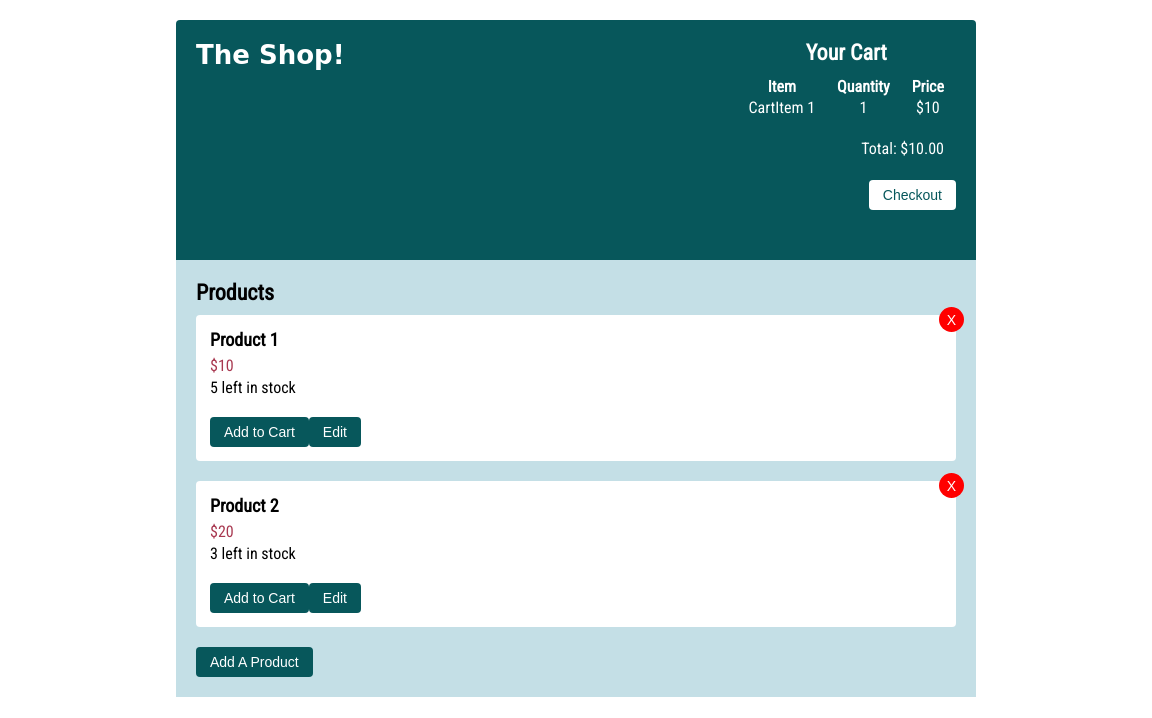
App component › allows updating a product
The image size is (1152, 718).
Click the button "Edit" below "Product 1": (335, 432) [309,417,361,447]
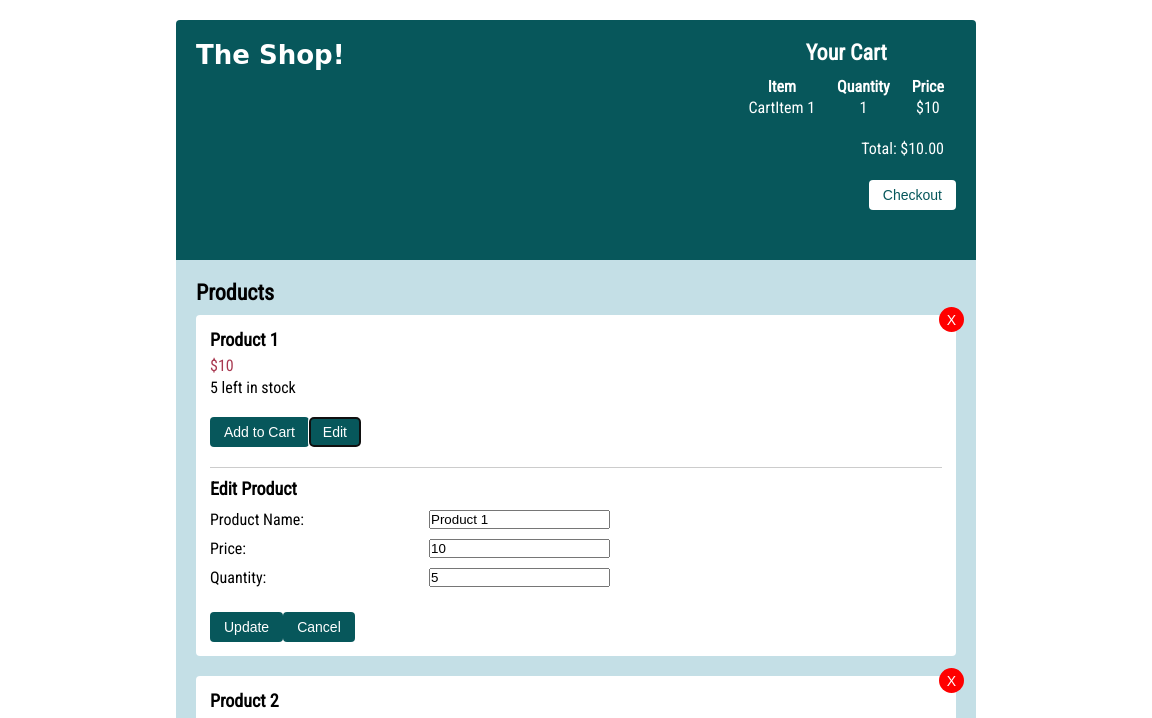
Replace the text in the field labelled "Product Name:" with "Updated Product 1": (520, 520) [429,510,610,529]
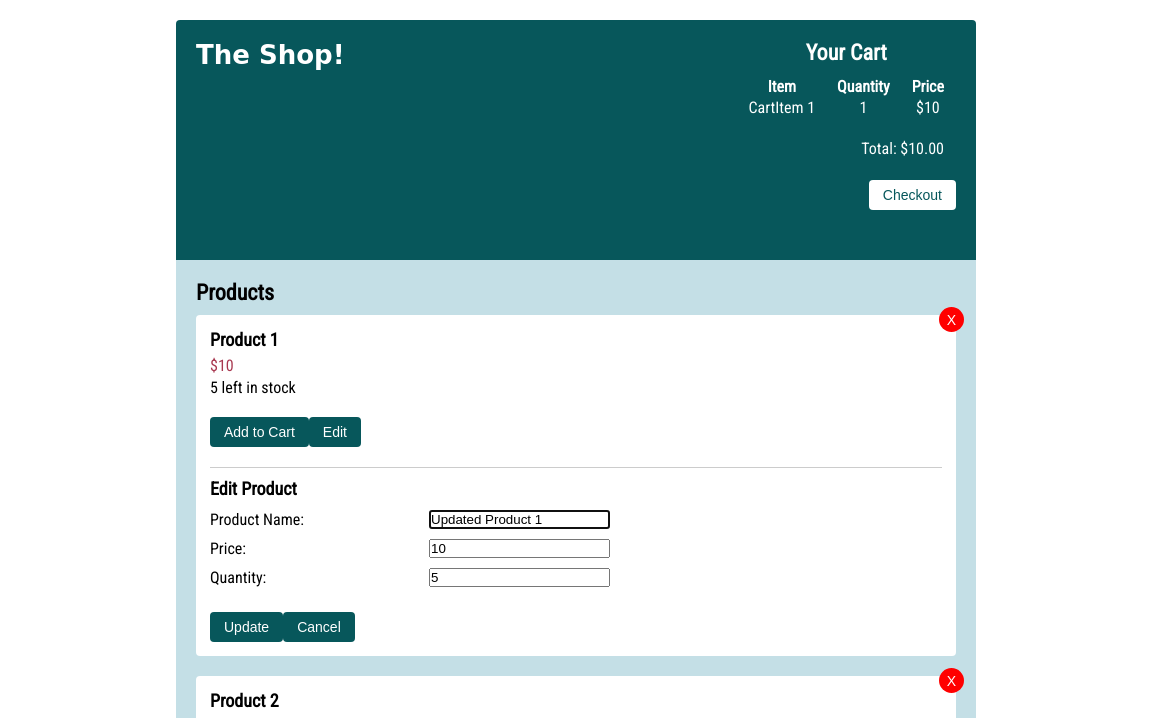
Replace the text in the number field labelled "Price:" with "12": (520, 548) [429,539,610,558]
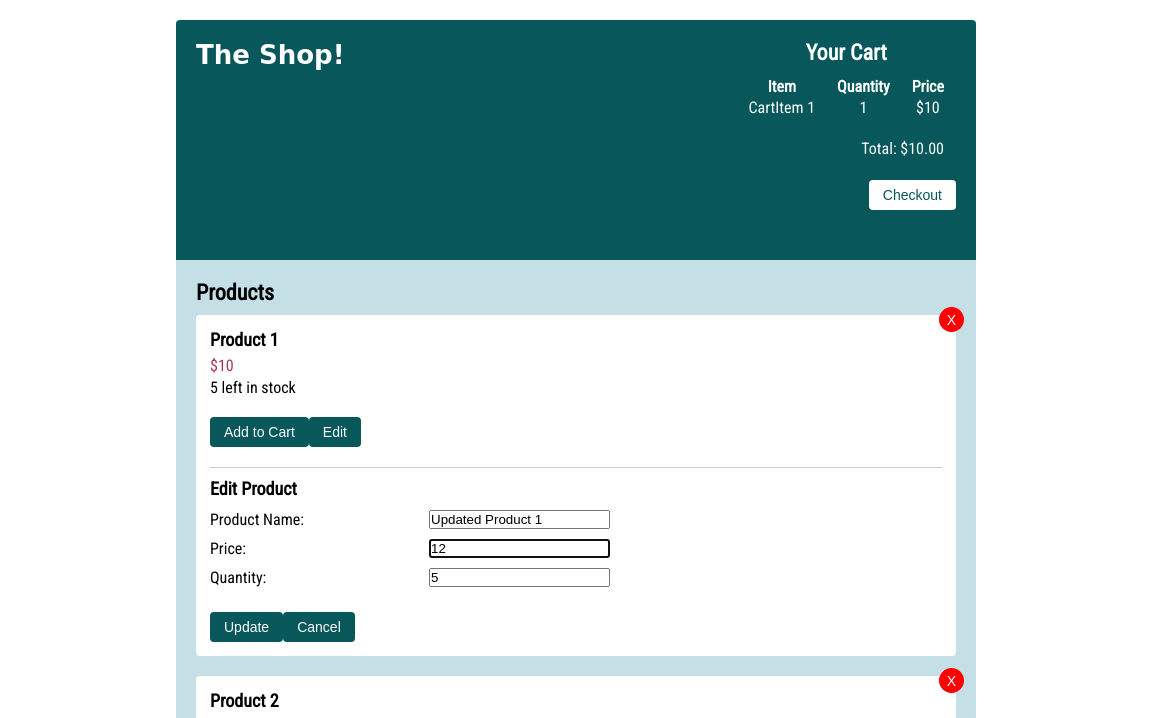
Replace the text in the number field labelled "Quantity:" with "6": (520, 578) [429,568,610,587]
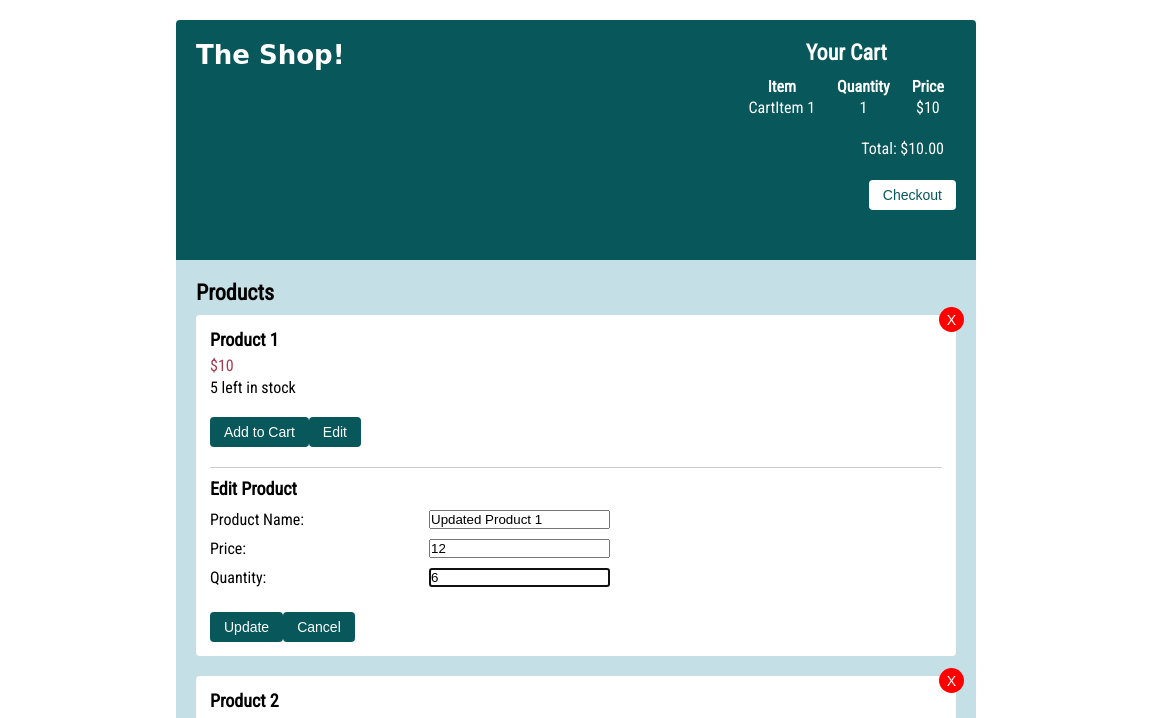
Click the button "Update": (247, 627) [210,612,283,642]
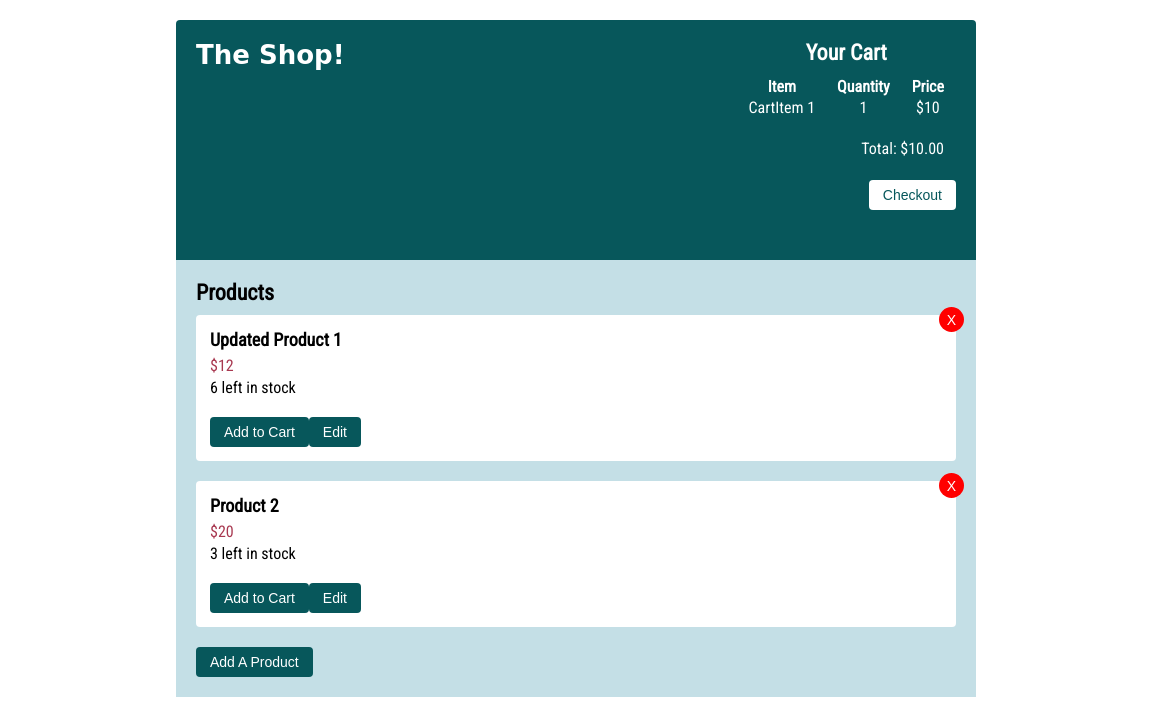
Check: the heading "Updated Product 1" is shown, box [210,329,342,350]
